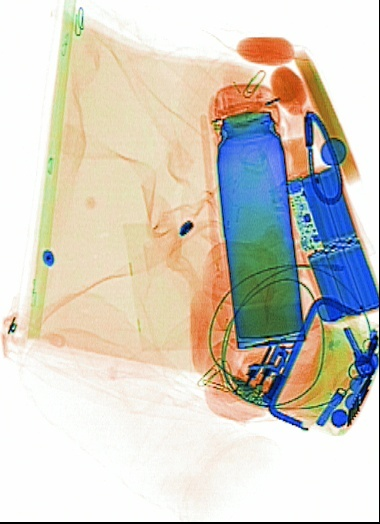powerbank: (279, 161, 377, 322)
